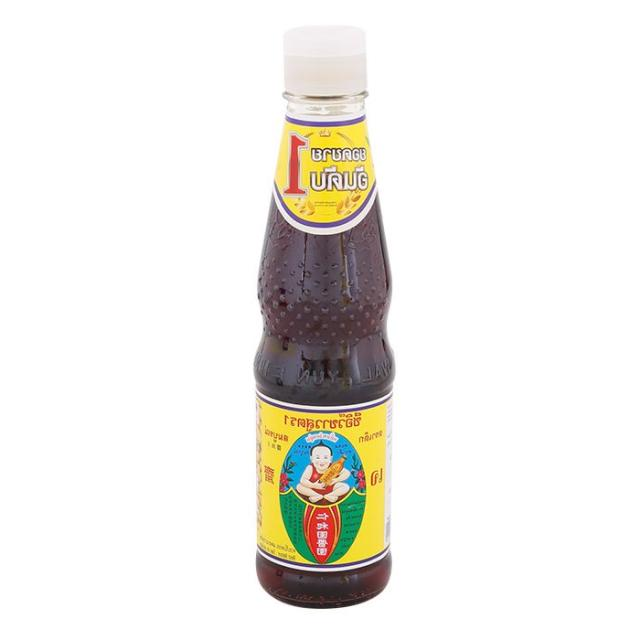glass: (254, 39, 394, 609)
